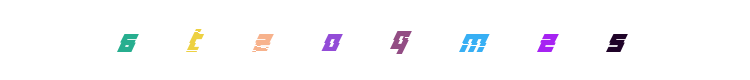6: (87, 0, 167, 80)
M: (404, 0, 484, 80)
O: (334, 0, 414, 80)
Q: (372, 0, 452, 80)
S: (576, 0, 656, 80)
T: (154, 0, 234, 80)
Z: (247, 0, 327, 80), (425, 0, 505, 80)
